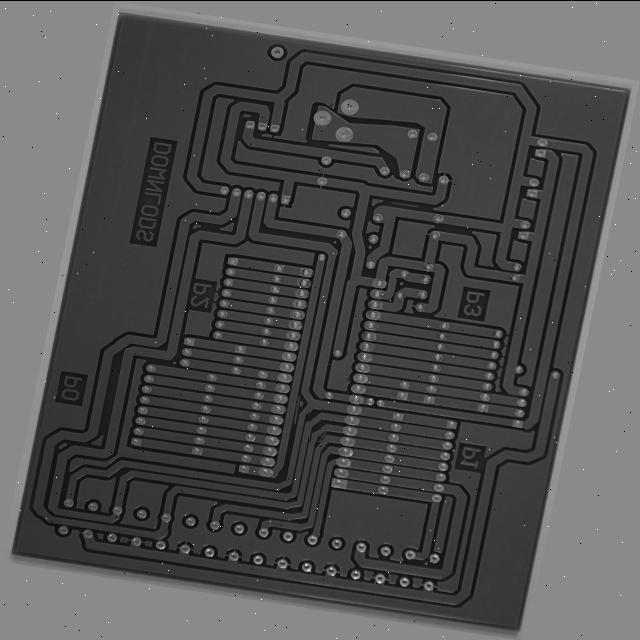spurious_copper: (308, 404, 321, 441), (373, 172, 414, 182), (344, 442, 357, 457)
